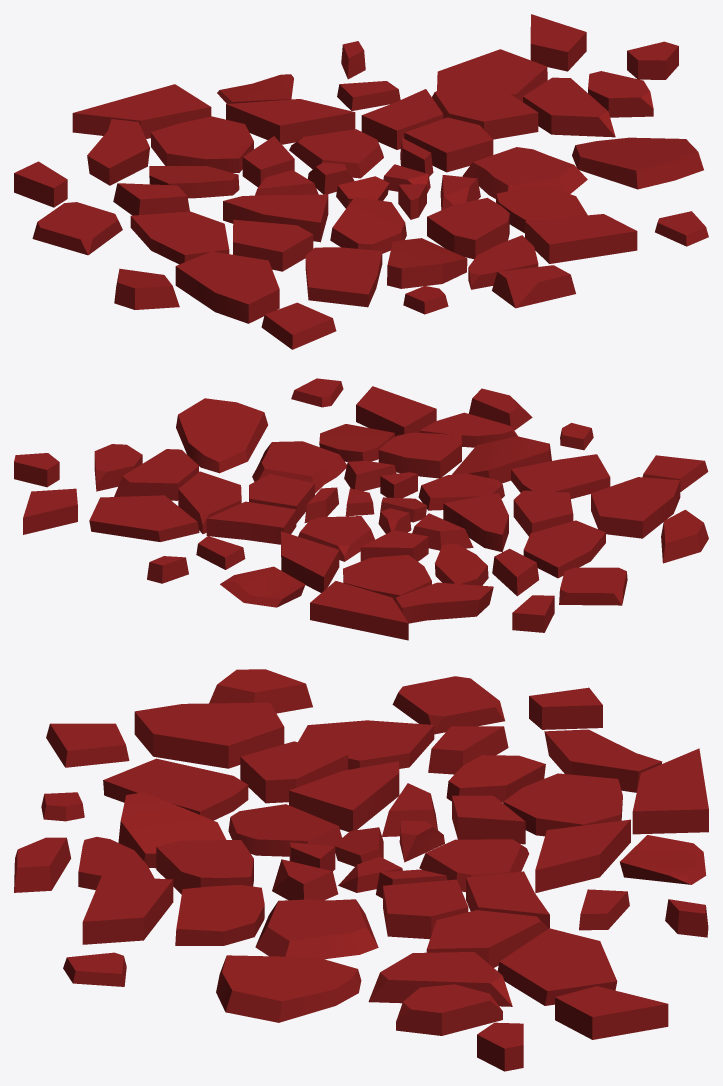
Rendered from Debris_Floor_01.FBX.
3 renders of one model, top to bottom at view 1: azimuth 30°, elevation 25°; view 2: azimuth 150°, elevation 25°; view 3: azimuth 270°, elevation 25°, orthographic. The views are drawn at different scales.
Visible parts, largest first — view 1: Debris_Floor_01_LOD0; view 2: Debris_Floor_01_LOD0; view 3: Debris_Floor_01_LOD0.
Boxes of the visible parts, x1=… form: Debris_Floor_01_LOD0: x1=14, y1=14, x2=708, y2=349; Debris_Floor_01_LOD0: x1=14, y1=378, x2=708, y2=640; Debris_Floor_01_LOD0: x1=14, y1=669, x2=708, y2=1071.
Size of the model in its own units: 410 by 19.35 by 315.
